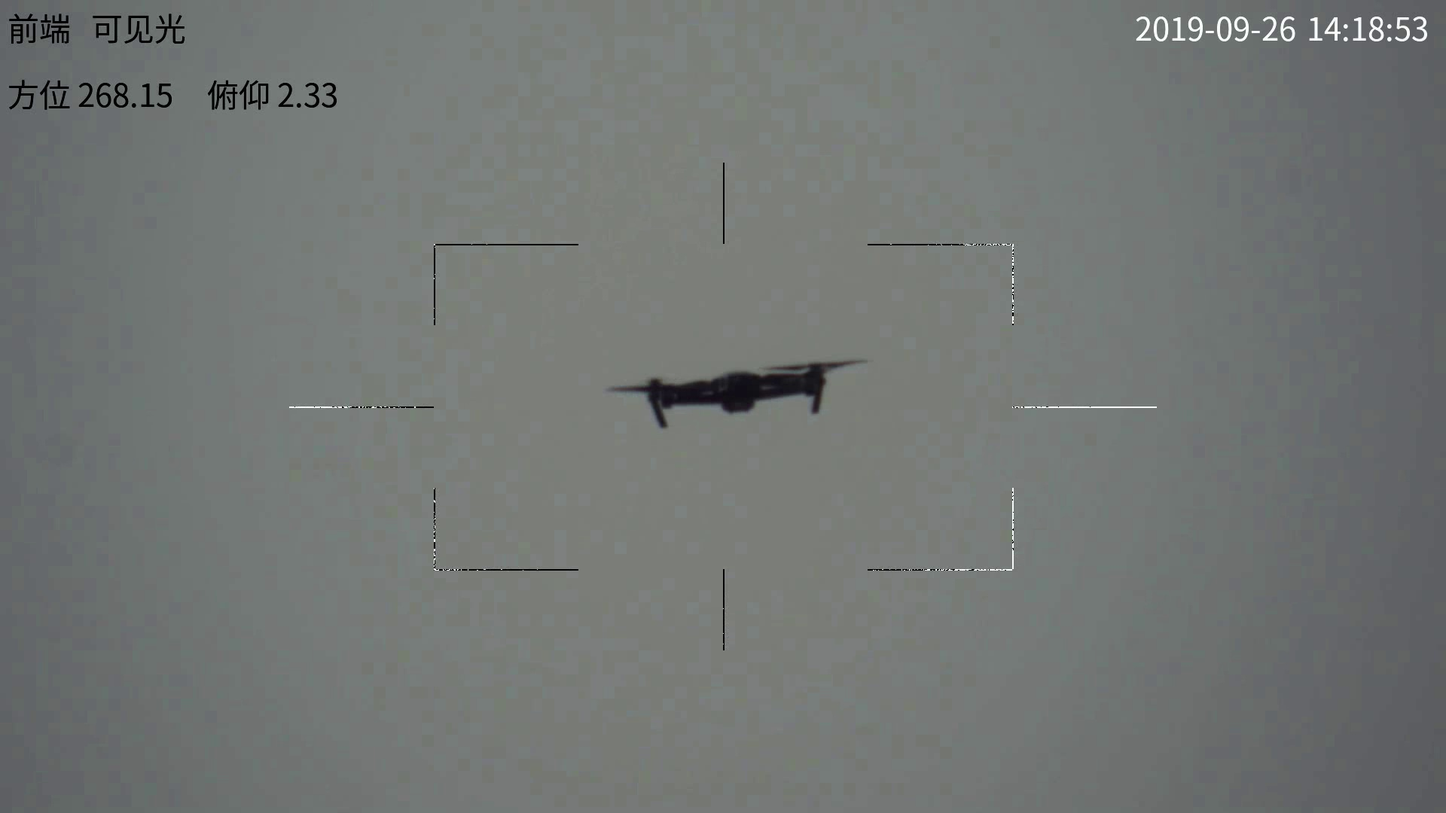drone: (606, 358, 869, 437)
